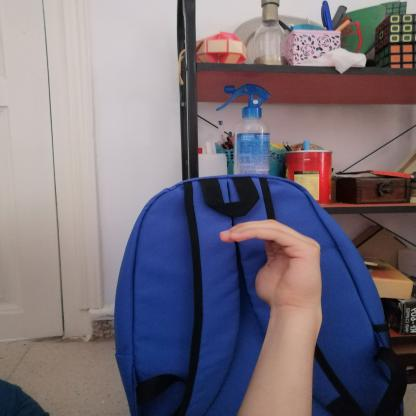HAA: (204, 209, 338, 314)
